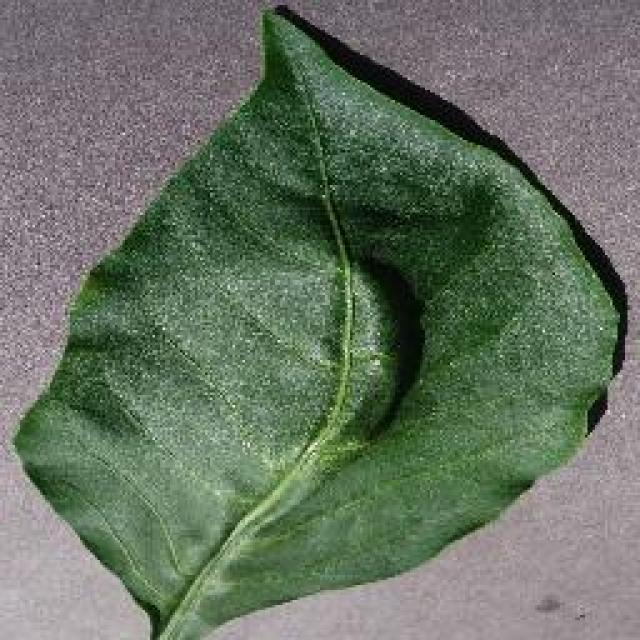Leaf: (12, 19, 635, 632)
